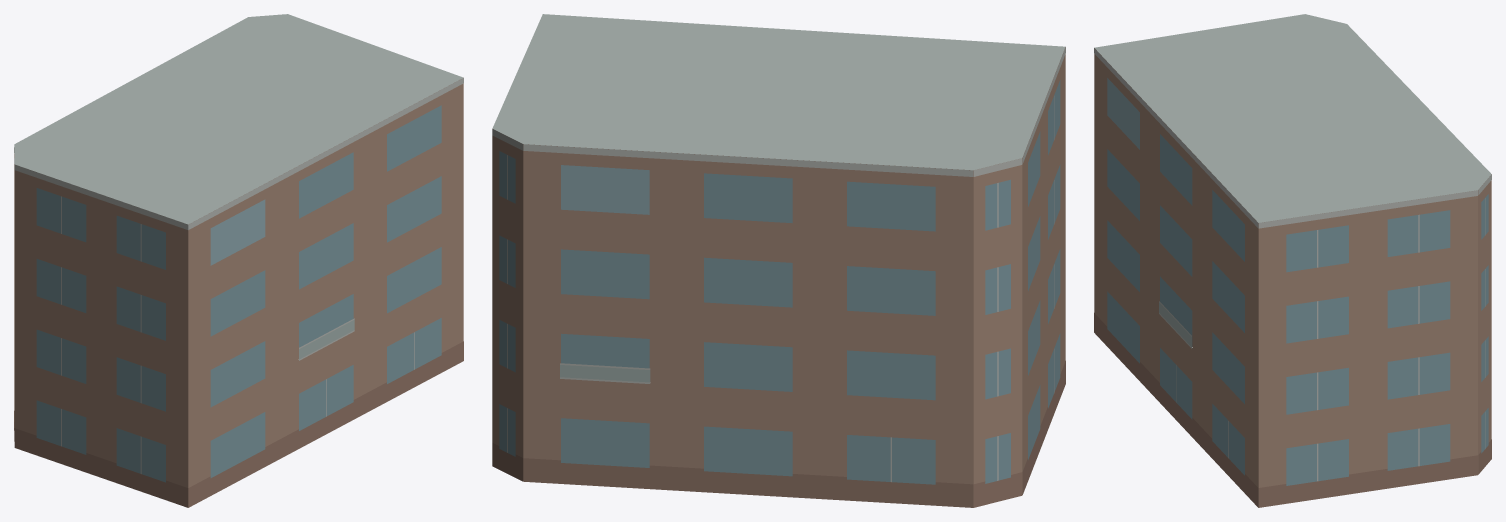
File: survey-upis-32571415.glb
3 renders of one model, left to right at view 1: azimuth 30°, elevation 25°; view 2: azimuth 150°, elevation 25°; view 3: azimuth 270°, elevation 25°, orthographic. The views are drawn at different scales.
Parts seen in each view (by area): view 1: survey-upis-32571415.tmp; view 2: survey-upis-32571415.tmp; view 3: survey-upis-32571415.tmp.
Part boxes in pixels (x1,y1,x2,y2): survey-upis-32571415.tmp: (14,14,463,507); survey-upis-32571415.tmp: (492,14,1065,507); survey-upis-32571415.tmp: (1094,14,1491,507).
Size of the model in its own units: 19.2 by 12.2 by 15.44.
